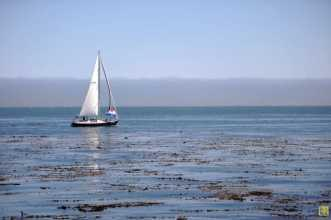fanchuan: (71, 52, 126, 131)
